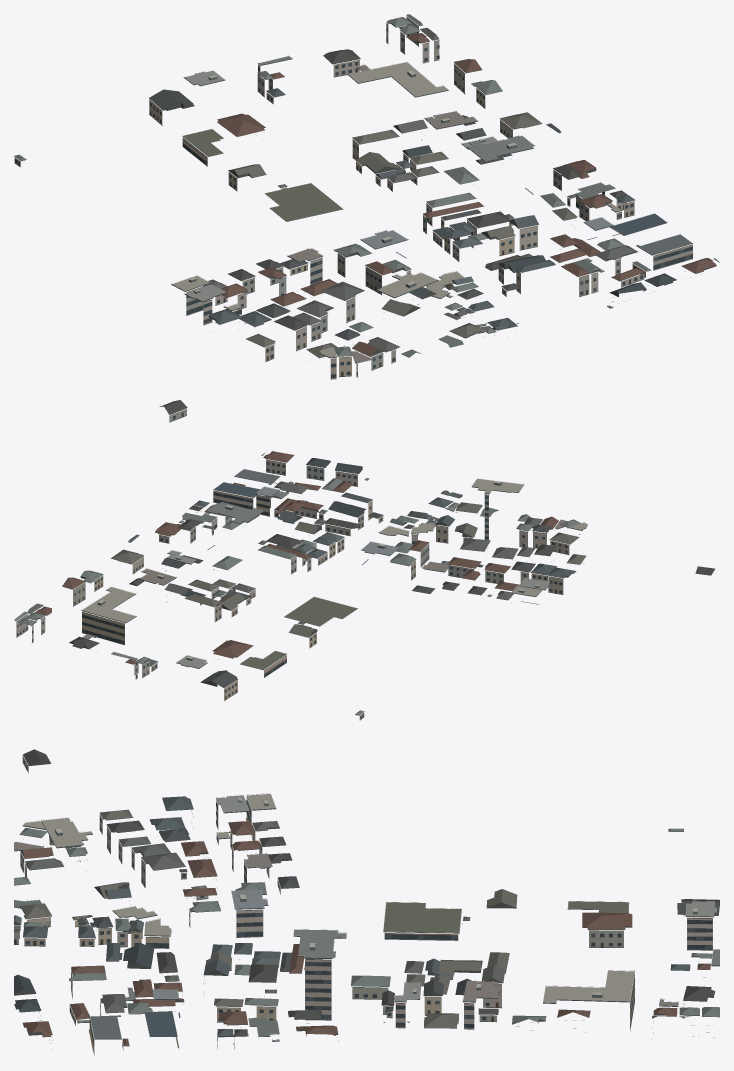
The picture shows the model from 3 angles, top to bottom: view 1: azimuth 30°, elevation 25°; view 2: azimuth 150°, elevation 25°; view 3: azimuth 270°, elevation 25°; orthographic projection. The views are drawn at different scales.
Parts seen in each view (by area): view 1: r5-c4; view 2: r5-c4; view 3: r5-c4.
Part boxes in pixels (x1=…): r5-c4: x1=14, y1=14, x2=719, y2=422; r5-c4: x1=14, y1=451, x2=715, y2=720; r5-c4: x1=14, y1=749, x2=719, y2=1055.
Bounding box in the file's own units: 250 × 28.25 × 250.
